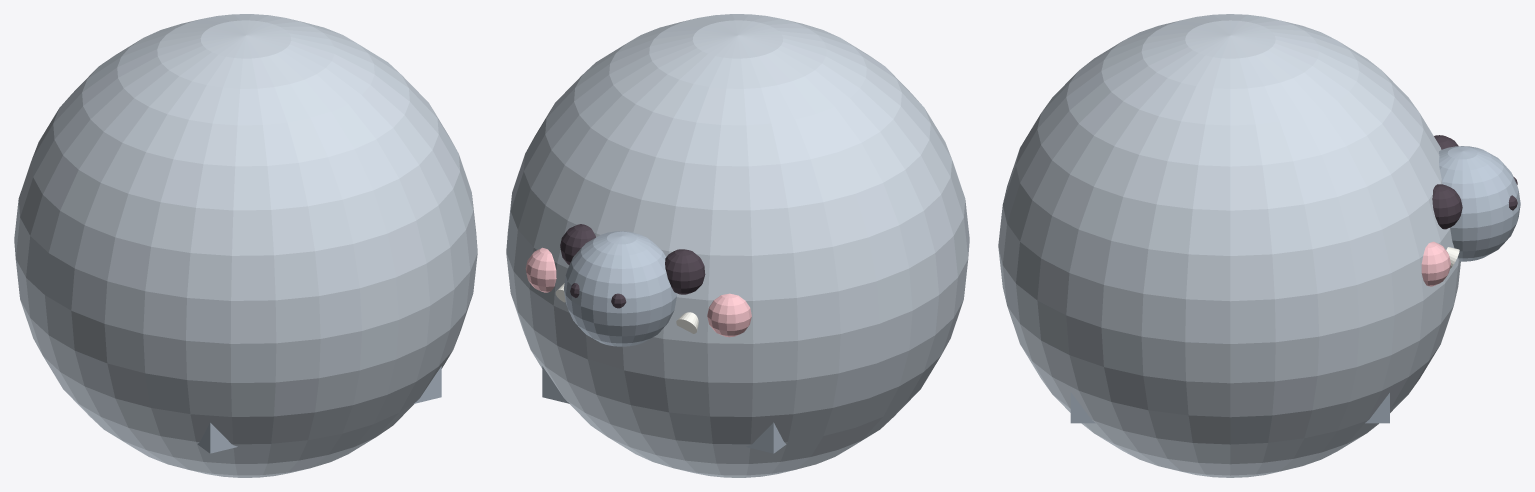
The model's file is pig_squeak.glb.
3 views of the same model, side by side, from view 1: azimuth 30°, elevation 25°; view 2: azimuth 150°, elevation 25°; view 3: azimuth 270°, elevation 25° (orthographic).
Parts seen in each view (by area): view 1: Sphere, Cube.002; view 2: Sphere, Sphere.005, Sphere.003, Sphere.001, Sphere.004, Sphere.002, Cube; view 3: Sphere, Sphere.005, Sphere.002, Sphere.004.
Part boxes in pixels (<box>): Sphere: <box>14,14,477,477</box>; Cube.002: <box>197,422,237,453</box>; Sphere: <box>506,14,969,477</box>; Sphere.005: <box>564,231,676,346</box>; Sphere.003: <box>707,293,751,337</box>; Sphere.001: <box>665,249,705,294</box>; Sphere.004: <box>525,247,556,292</box>; Sphere.002: <box>560,224,595,265</box>; Cube: <box>746,422,786,453</box>; Sphere: <box>998,14,1460,477</box>; Sphere.005: <box>1439,146,1520,261</box>; Sphere.002: <box>1432,184,1462,229</box>; Sphere.004: <box>1421,241,1450,286</box>.
Bounding box in the file's own units: 0.52 × 0.52 × 0.585.
